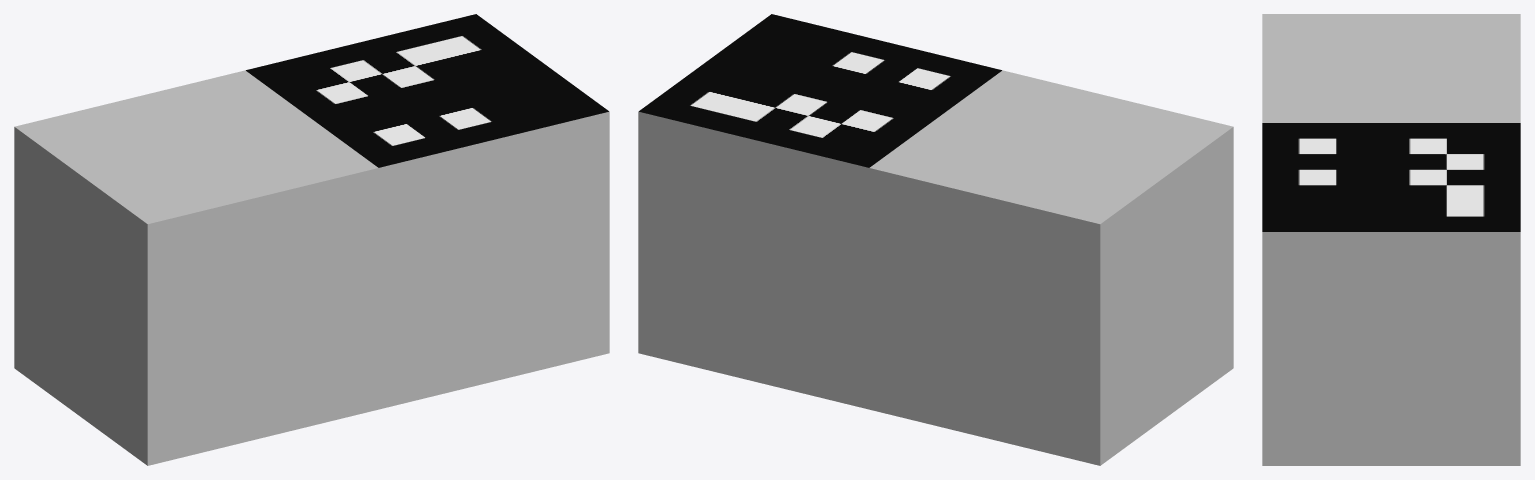
3 views of the same model, side by side, from view 1: azimuth 30°, elevation 25°; view 2: azimuth 150°, elevation 25°; view 3: azimuth 270°, elevation 25° (orthographic). The views are drawn at different scales.
Visible parts, largest first — view 1: Cube; view 2: Cube; view 3: Cube.
Boxes of the visible parts, x1,y1,x2,y2 form: Cube: [14, 14, 609, 465]; Cube: [638, 14, 1233, 465]; Cube: [1262, 14, 1520, 465].
Size of the model in its own units: 4 by 2 by 2.
